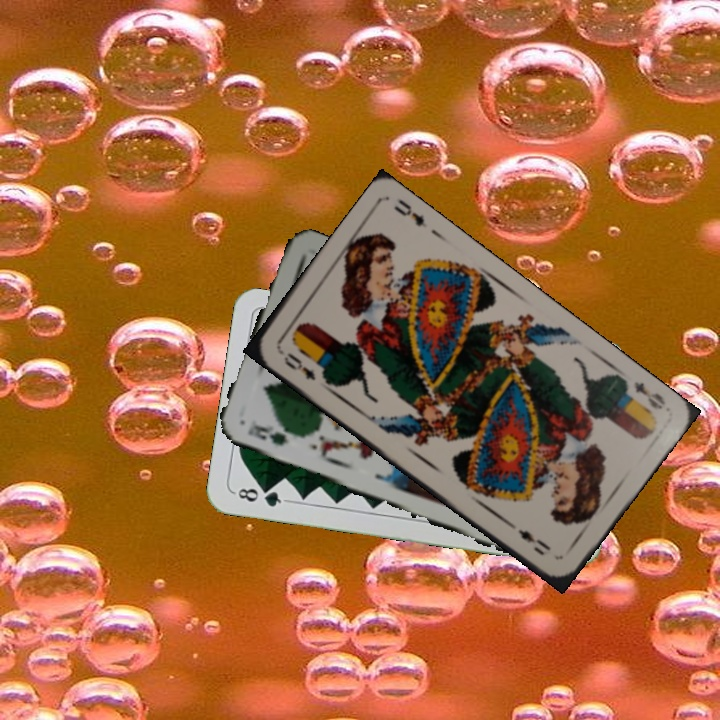EO: (280, 348, 319, 384), (630, 377, 668, 413)
G8: (230, 484, 289, 510)
GK: (243, 420, 300, 448)
